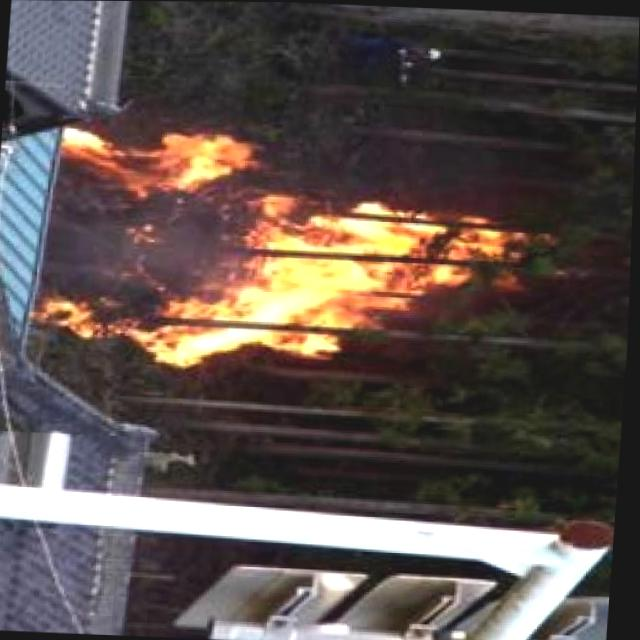helmet: (37, 129, 529, 372)
